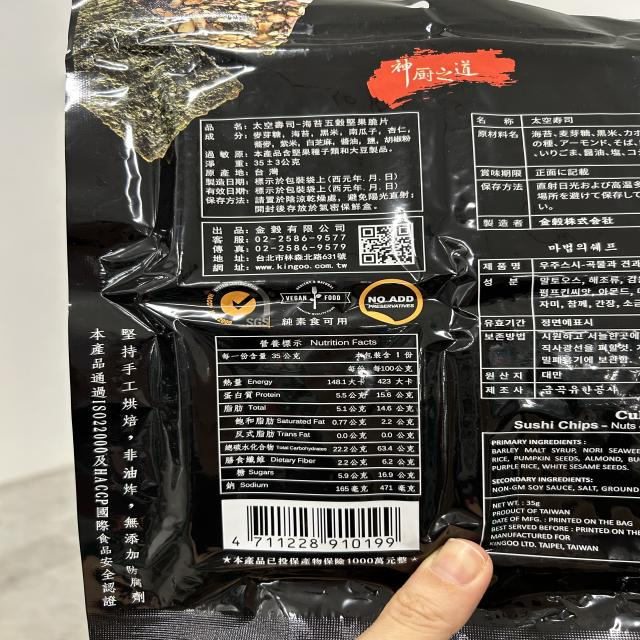object_name: (85, 3, 636, 638)
